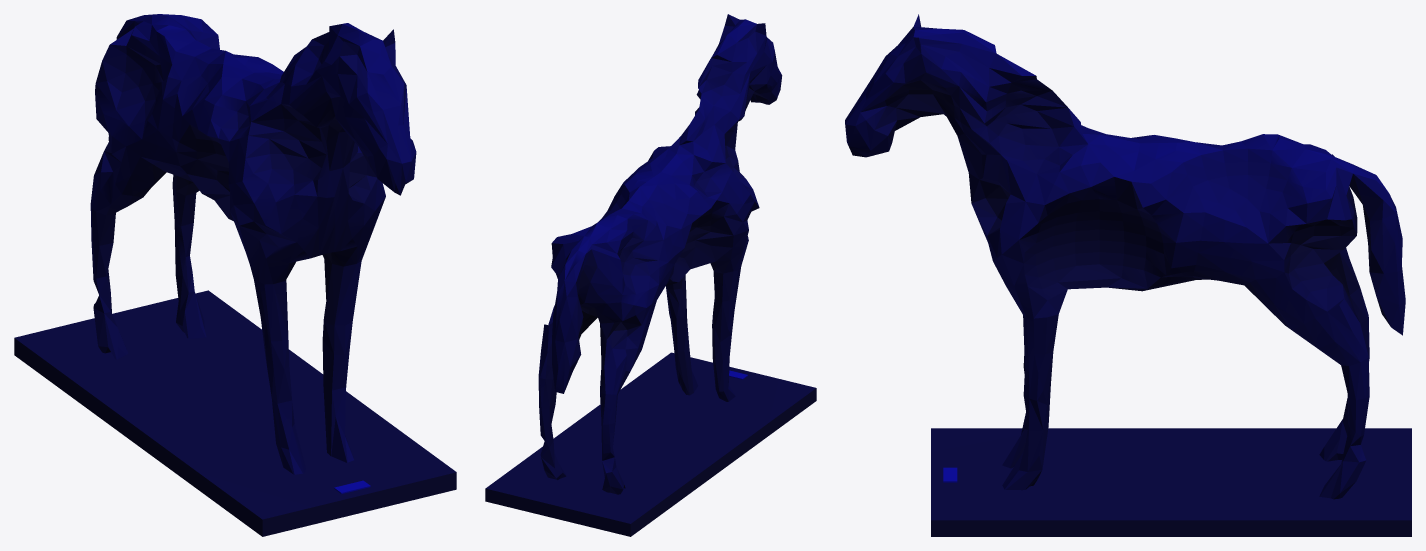
Rendered from MarbleHorse.glb.
The picture shows the model from 3 angles, left to right: view 1: azimuth 30°, elevation 25°; view 2: azimuth 150°, elevation 25°; view 3: azimuth 270°, elevation 25°; orthographic projection. The views are drawn at different scales.
Parts seen in each view (by area): view 1: MarbleHorse; view 2: MarbleHorse; view 3: MarbleHorse.
Boxes of the visible parts, left/top/right/bottom form: MarbleHorse: left=14, top=14, right=456, bottom=536; MarbleHorse: left=485, top=14, right=816, bottom=536; MarbleHorse: left=845, top=14, right=1411, bottom=536.
Size of the model in its own units: 9.14 by 21.67 by 23.86.
